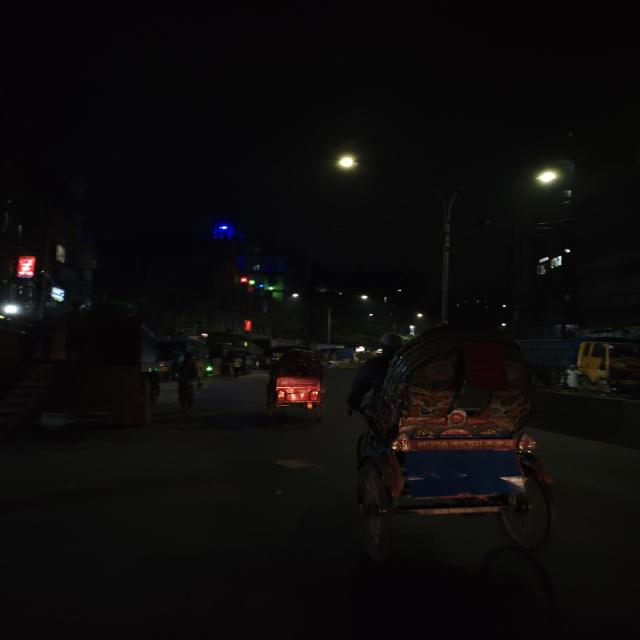pedestrian: (172, 352, 204, 414), (228, 353, 248, 387)
rickshaw: (336, 322, 564, 559), (248, 341, 340, 430)
truck: (7, 299, 162, 429), (549, 326, 639, 403)
